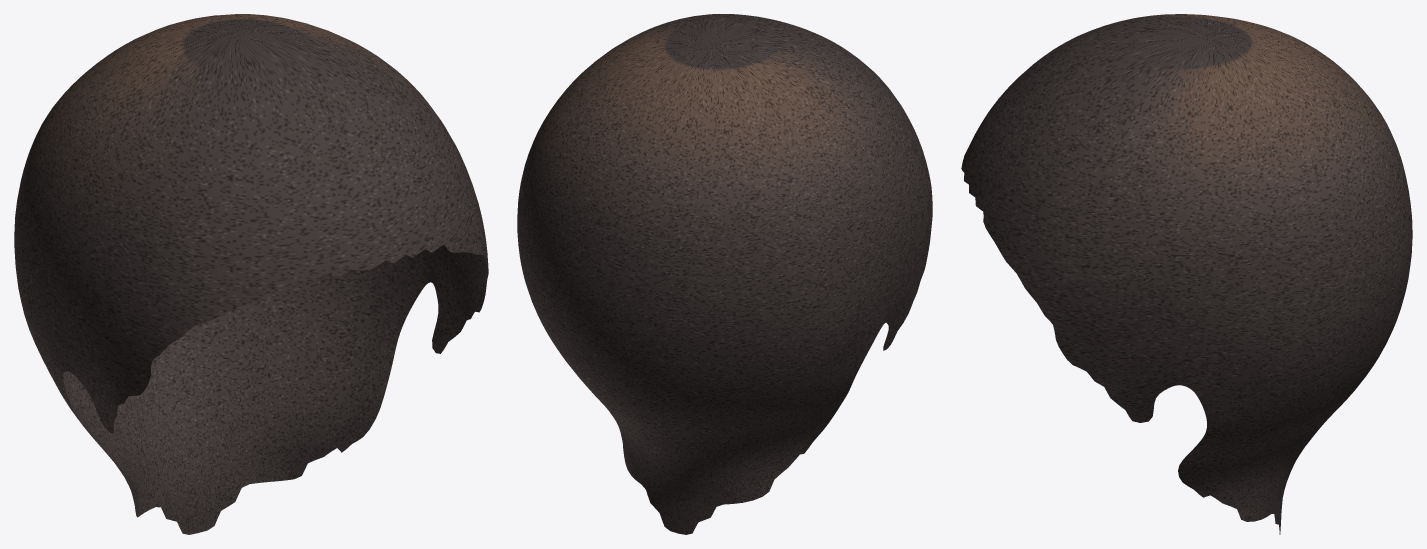
Rendered from vroid_hair_c33.glb.
3 views of the same model, side by side, from view 1: azimuth 30°, elevation 25°; view 2: azimuth 150°, elevation 25°; view 3: azimuth 270°, elevation 25° (orthographic). The views are drawn at different scales.
Visible parts, largest first — view 1: scalp; view 2: scalp; view 3: scalp.
Boxes of the visible parts, x1,y1,x2,y2 form: scalp: (14, 14, 488, 534); scalp: (517, 14, 932, 534); scalp: (961, 14, 1412, 534).
Size of the model in its own units: 0.1814 by 0.2379 by 0.1966.
1 material, 1 textured.
